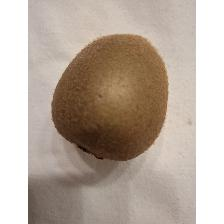Kiwi: (49, 28, 171, 166)
